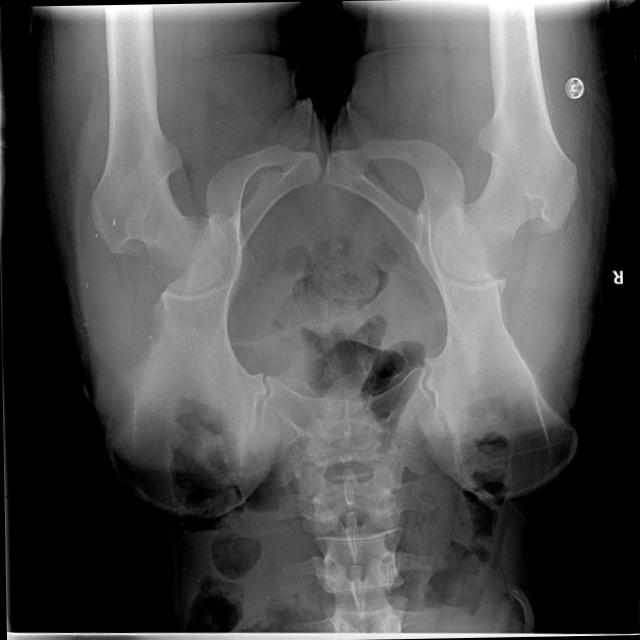normal-left: (89, 3, 227, 291)
normal-right: (431, 0, 577, 280)
